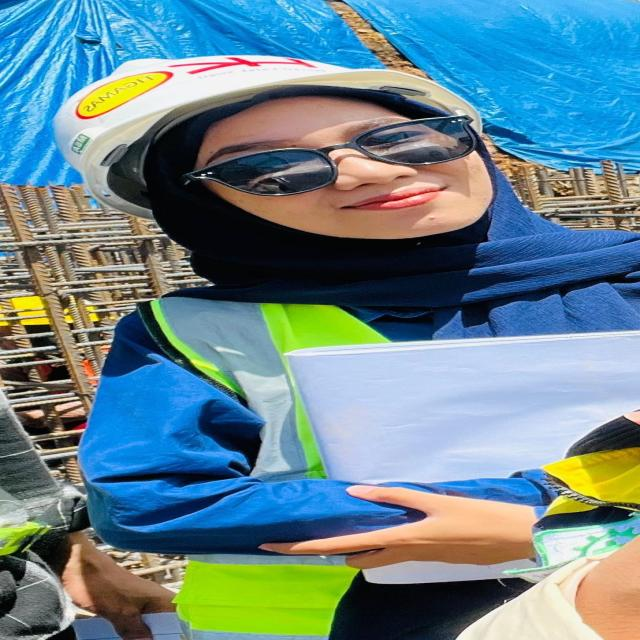safetyhelmet: (29, 42, 554, 266)
